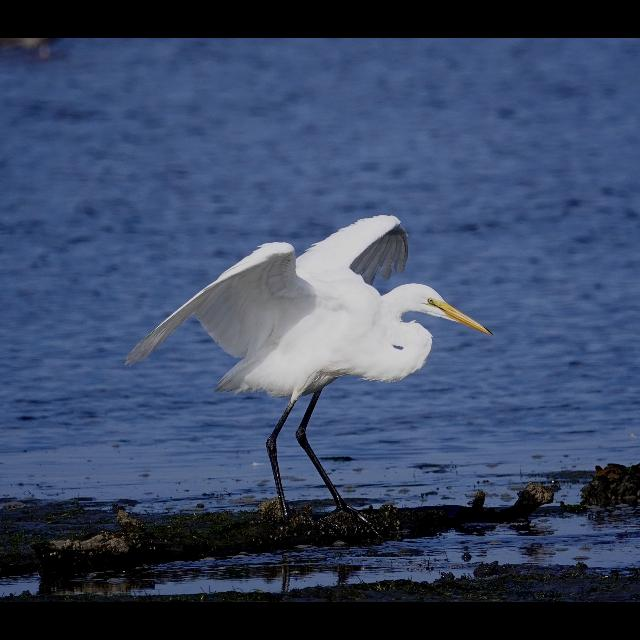egret: (114, 198, 502, 532)
